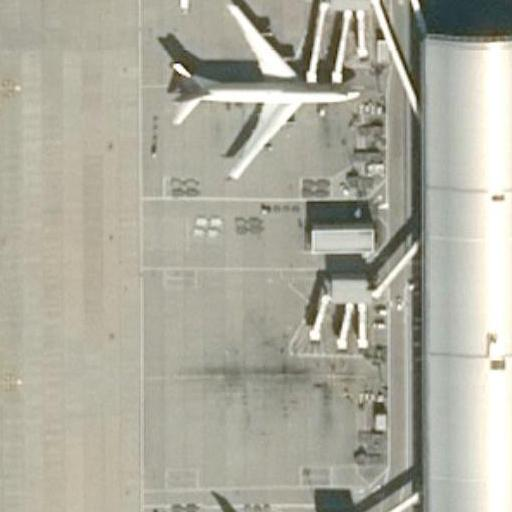Aircraft: (153, 0, 359, 171), (142, 503, 350, 512)
